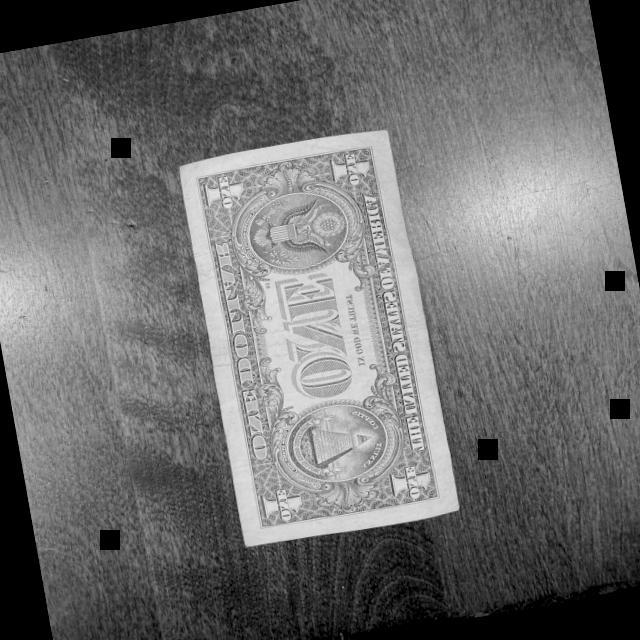one: (172, 122, 458, 550)
